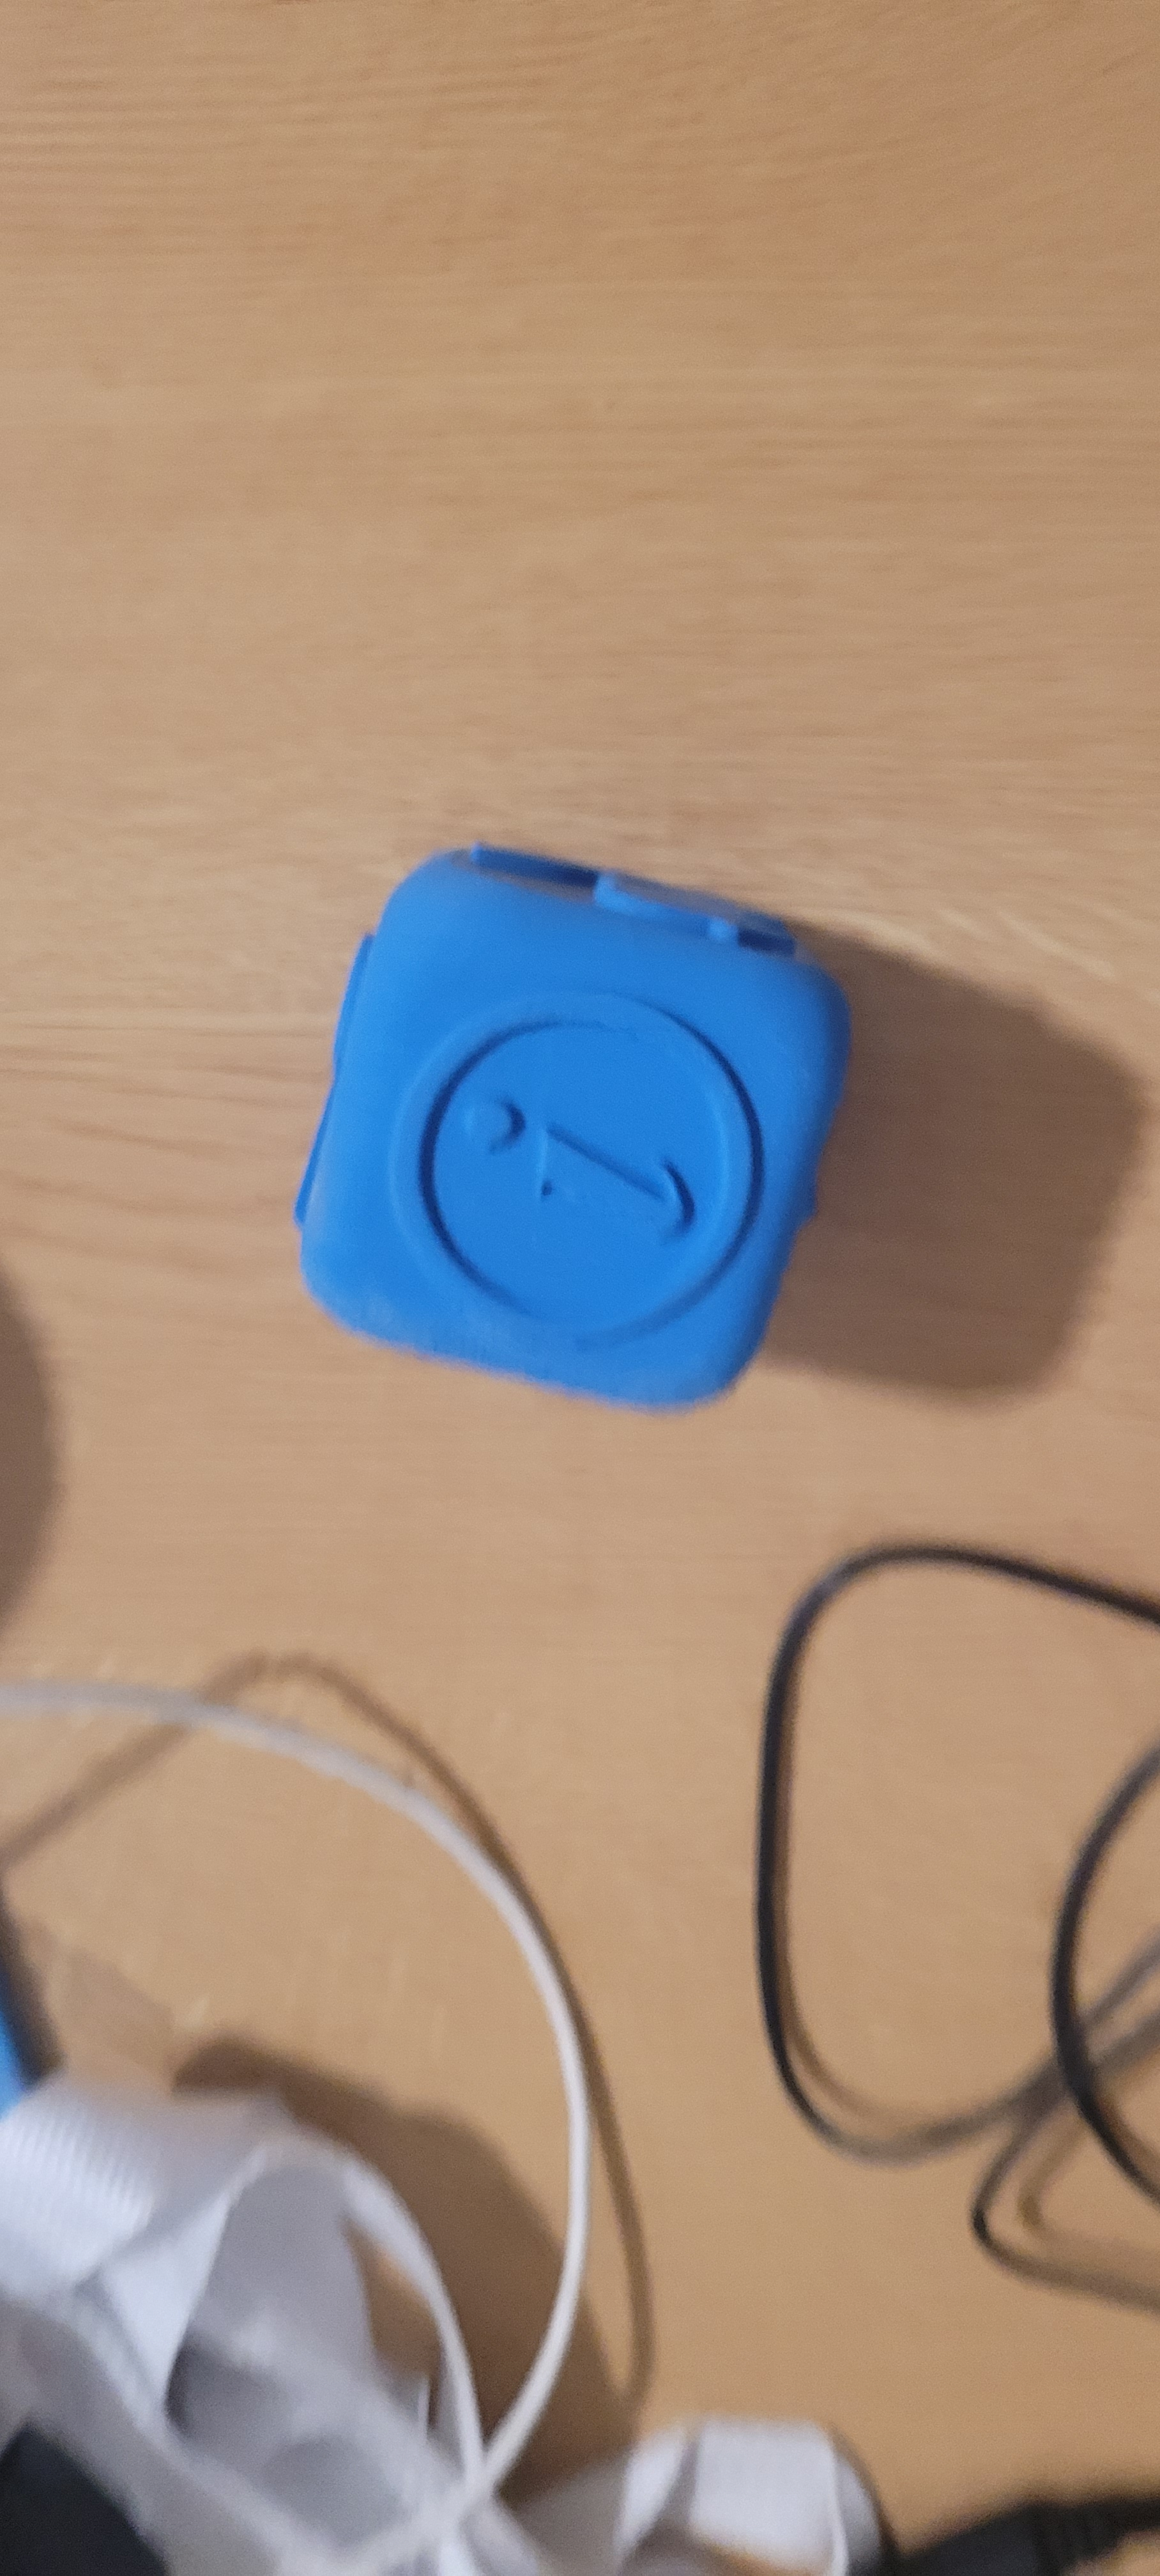Info: (376, 943, 800, 1406)
